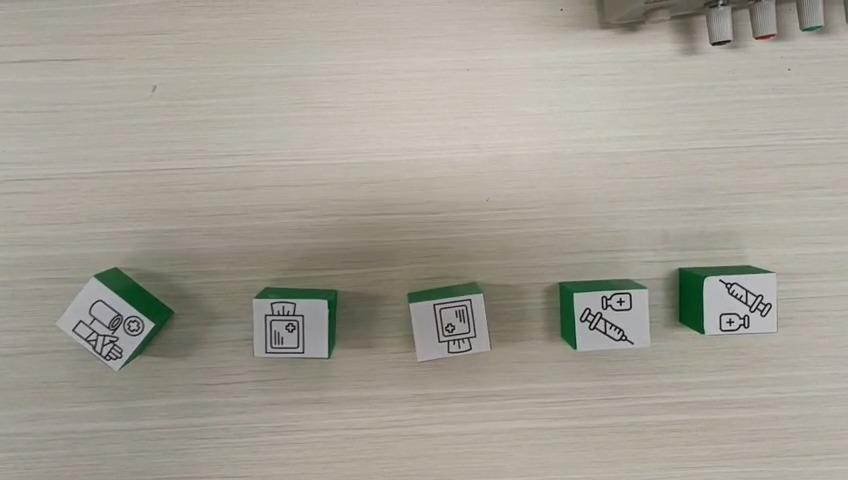Bandages: (51, 265, 173, 370)
Gauze: (409, 283, 491, 362), (252, 286, 338, 359)
antiseptic cream: (677, 264, 778, 335), (557, 279, 651, 351)
